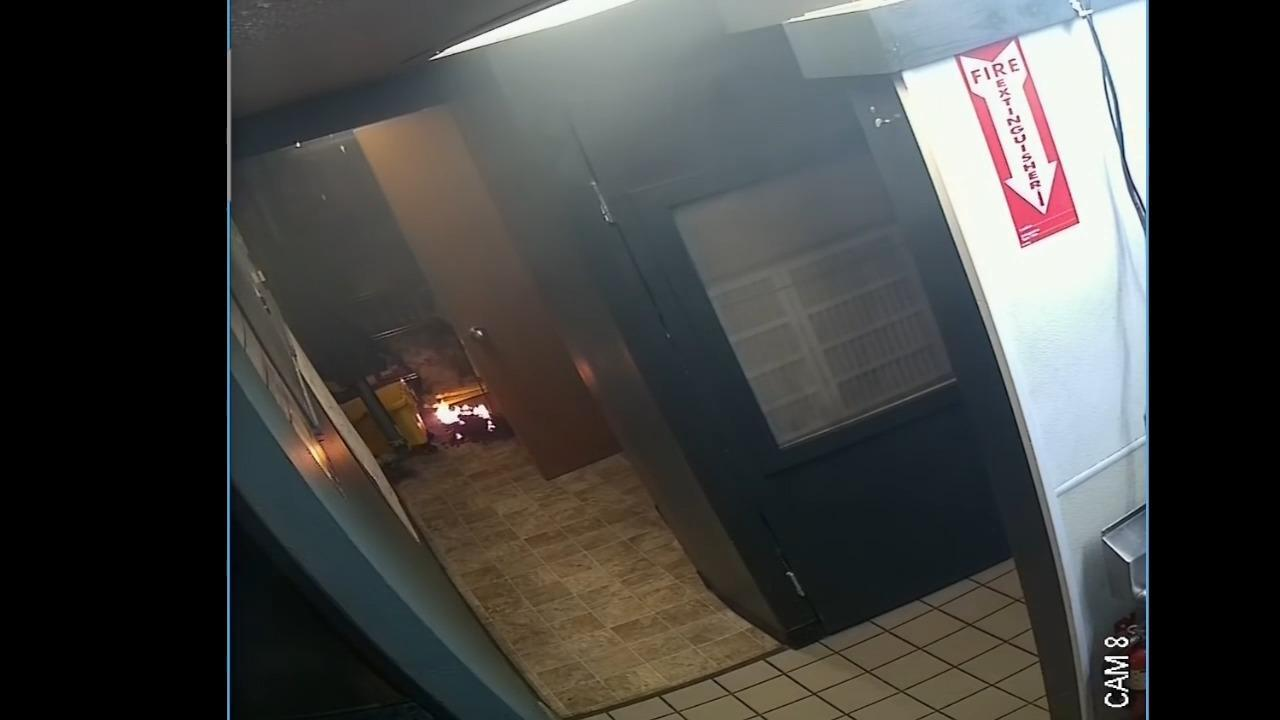fire: (436, 397, 490, 423)
